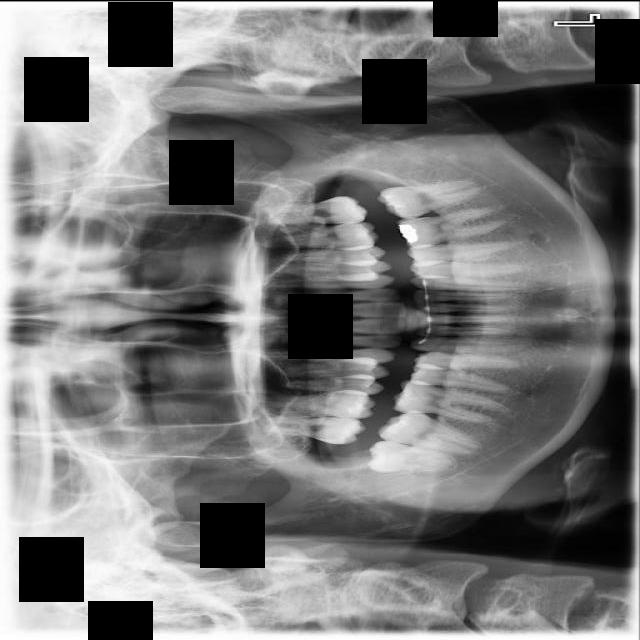52: (396, 208, 442, 254)
73: (578, 44, 590, 52)
BioHorizons Implant: (263, 194, 368, 227)
Blue Sky Bio Implant: (375, 176, 482, 222)
Caries: (263, 413, 367, 445)
Implant: (376, 404, 483, 458)
Keystone Dental Implant: (367, 440, 455, 473)
